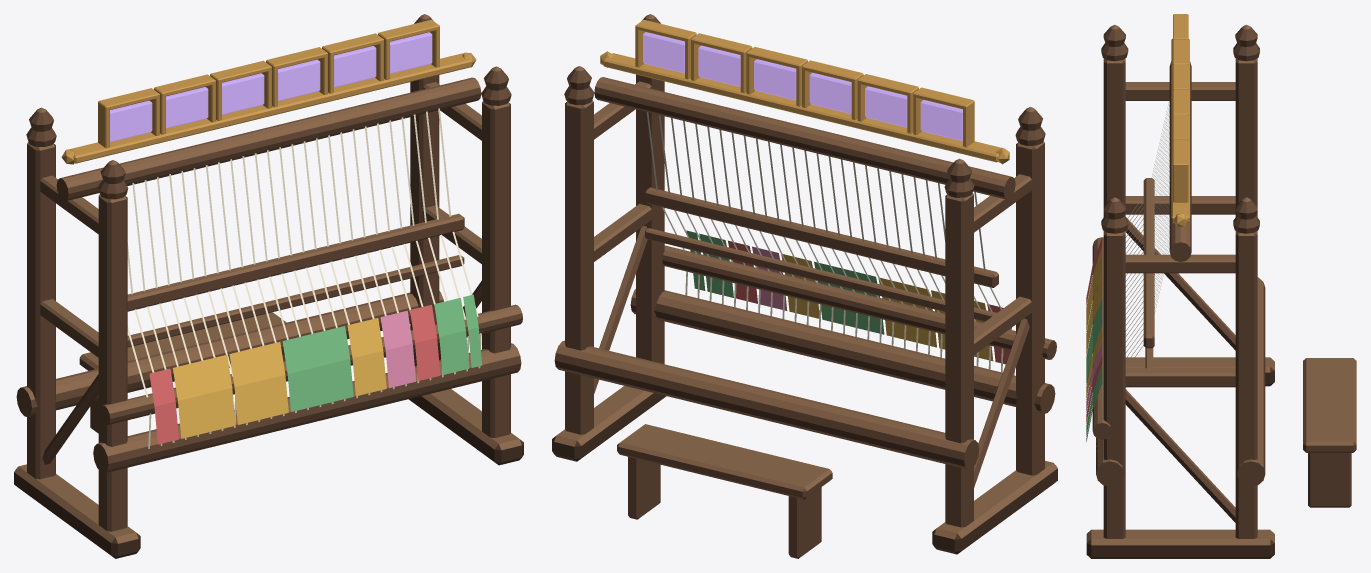
The model's file is word-loom.glb.
The picture shows the model from 3 angles, left to right: view 1: azimuth 30°, elevation 25°; view 2: azimuth 150°, elevation 25°; view 3: azimuth 270°, elevation 25°; orthographic projection. The views are drawn at different scales.
Parts seen in each view (by area): view 1: Wood, Band, Brass, Threads, Slots; view 2: Wood, Brass, Slots, Threads, Band; view 3: Wood, Brass, Band, Threads.
Part boxes in pixels (bbox=[...]): Wood: bbox=[14, 14, 523, 558]; Band: bbox=[149, 294, 482, 444]; Brass: bbox=[61, 19, 476, 164]; Threads: bbox=[127, 108, 481, 448]; Slots: bbox=[110, 32, 432, 142]; Wood: bbox=[552, 14, 1057, 558]; Brass: bbox=[600, 19, 1009, 164]; Slots: bbox=[643, 32, 962, 141]; Threads: bbox=[646, 112, 1014, 375]; Band: bbox=[686, 230, 1011, 364]; Wood: bbox=[1086, 24, 1356, 558]; Brass: bbox=[1171, 14, 1189, 227]; Band: bbox=[1086, 237, 1102, 442]; Threads: bbox=[1096, 99, 1169, 446].
Bounding box in the file's own units: 2.8 × 2.67 × 1.72.
